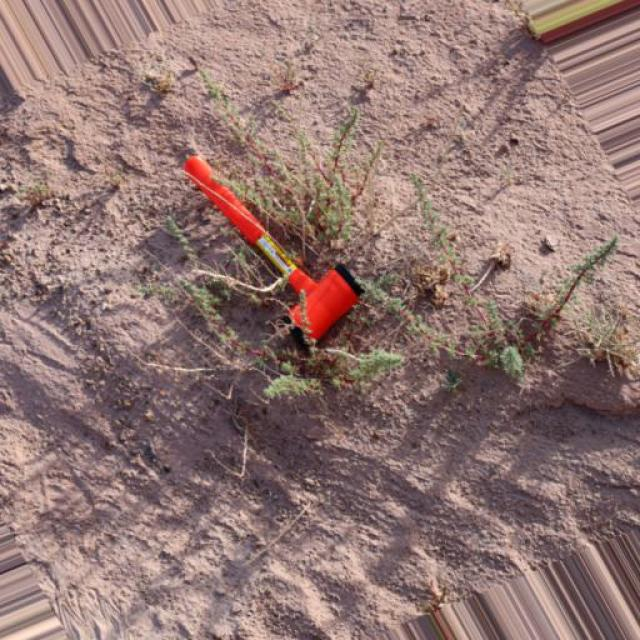mallet: (182, 152, 368, 348)
